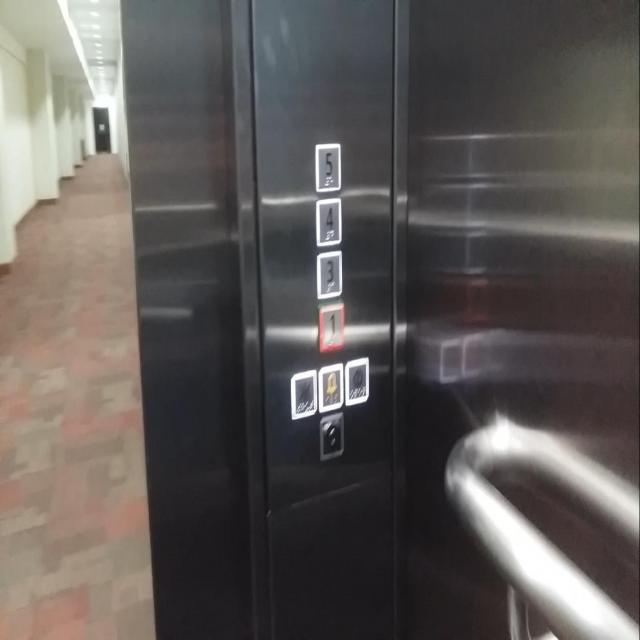1: (318, 303, 344, 352)
3: (316, 251, 342, 297)
4: (316, 197, 340, 245)
5: (315, 142, 340, 192)
alarm: (318, 362, 343, 412)
bt_keyhole: (319, 412, 343, 461)
open: (344, 357, 368, 406)
unknown: (290, 369, 316, 419)
